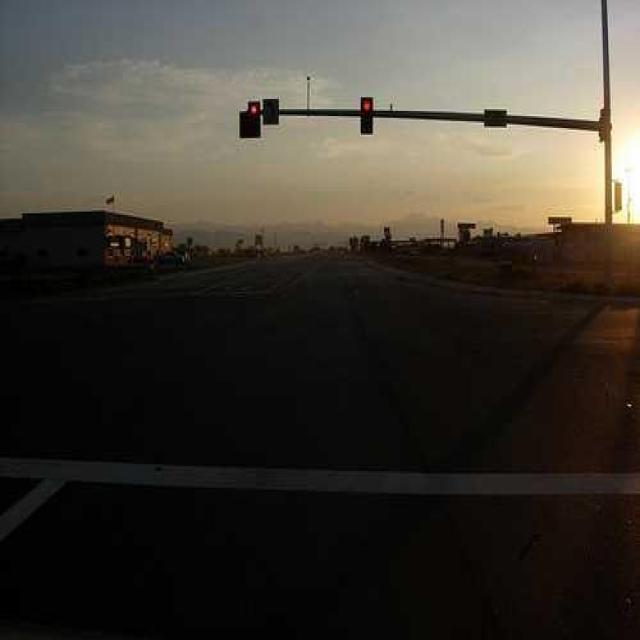Traffic Light -Red-: (246, 94, 262, 144), (359, 95, 374, 135)
